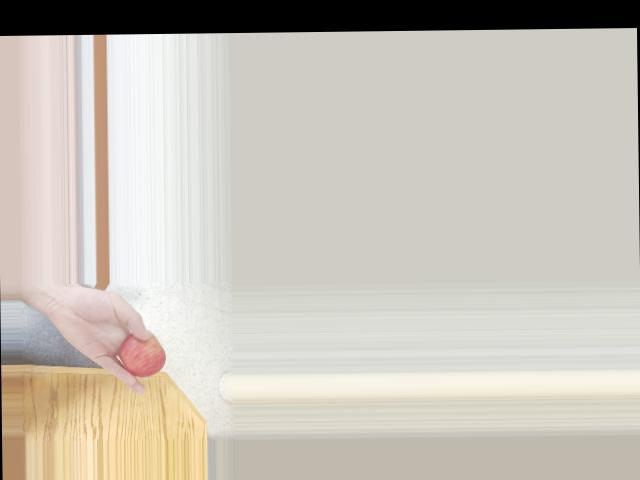apple: (114, 327, 166, 376)
